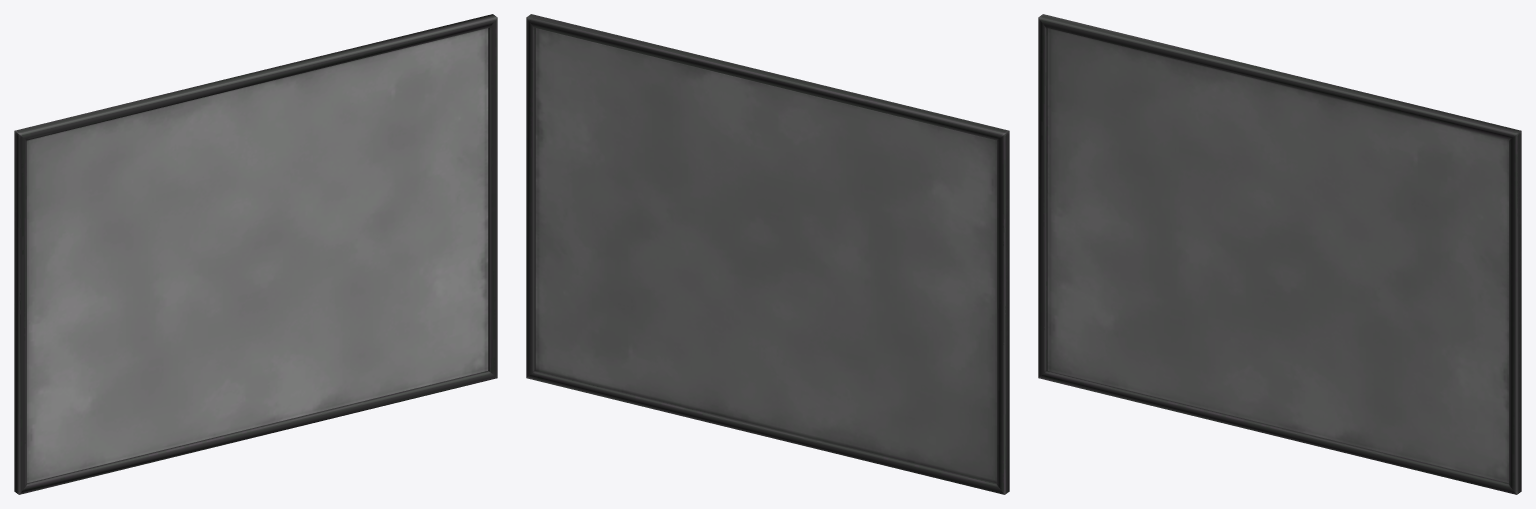
The model's file is whiteboard_large.dae.
3 renders of one model, left to right at view 1: azimuth 30°, elevation 25°; view 2: azimuth 150°, elevation 25°; view 3: azimuth 330°, elevation 25°, orthographic.
Visible parts, largest first — view 1: Mesh; view 2: Mesh; view 3: Mesh.
Boxes of the visible parts, left/top/right/bottom form: Mesh: left=14, top=14, right=497, bottom=494; Mesh: left=526, top=14, right=1009, bottom=494; Mesh: left=1038, top=14, right=1521, bottom=494.
Bounding box in the file's own units: 1.93 × 1.39 × 0.034.
